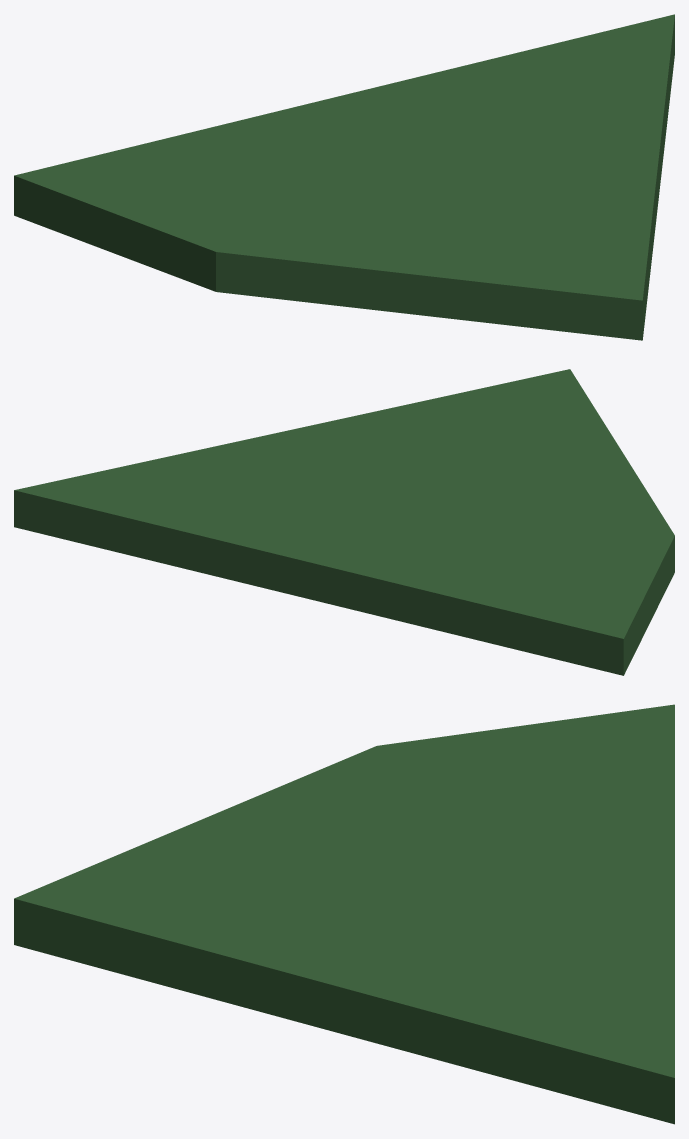
The model's file is x_proval_00_196_1_rmstrd.fbx.
3 views of the same model, one above another, from view 1: azimuth 30°, elevation 25°; view 2: azimuth 150°, elevation 25°; view 3: azimuth 270°, elevation 25° (orthographic). The views are drawn at different scales.
Parts seen in each view (by area): view 1: x_proval_00_196_1_rmstrd1; view 2: x_proval_00_196_1_rmstrd1; view 3: x_proval_00_196_1_rmstrd1.
Part boxes in pixels (x1,y1,x2,y2): x_proval_00_196_1_rmstrd1: [14, 14, 674, 340]; x_proval_00_196_1_rmstrd1: [14, 369, 674, 675]; x_proval_00_196_1_rmstrd1: [14, 704, 674, 1124].
Bounding box in the file's own units: 3.45 × 0.2 × 2.58.
